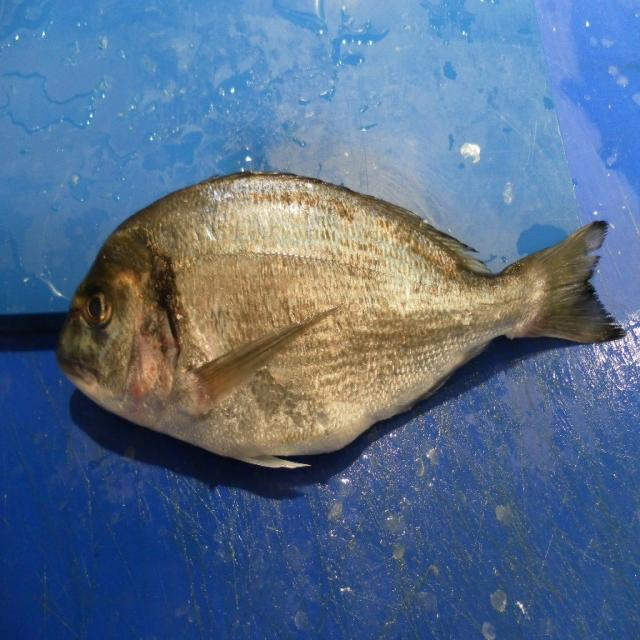Gilt-Head-Bream-c-ipura-: (55, 171, 625, 471)
